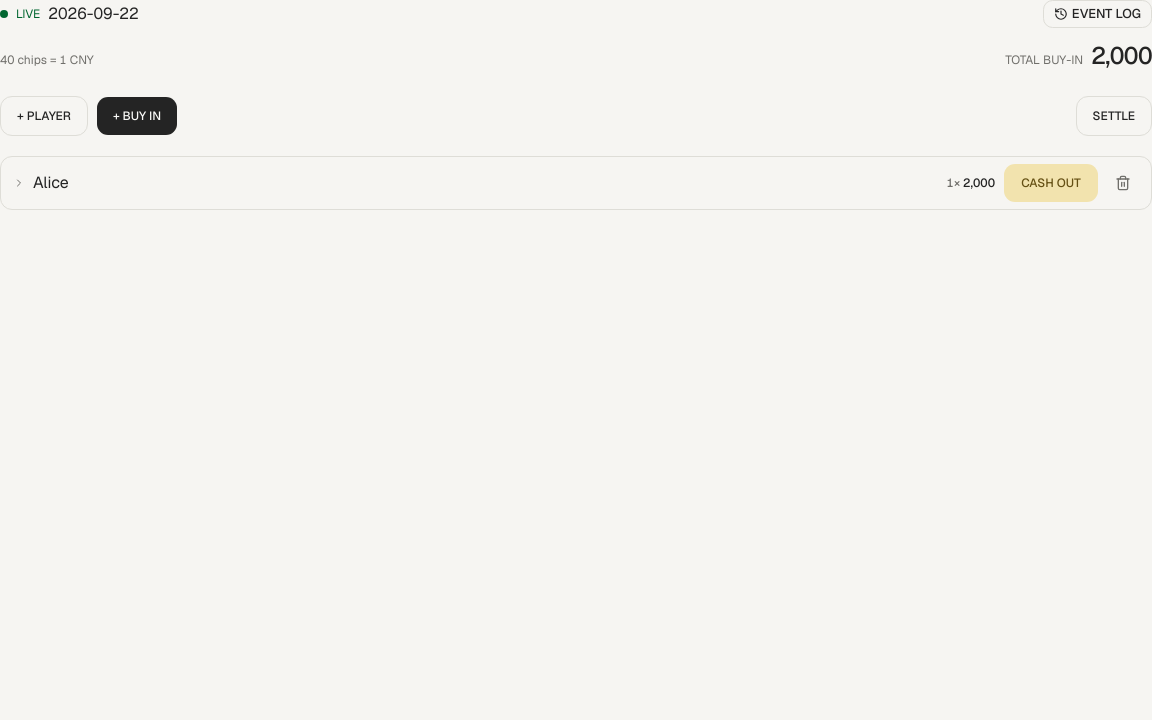
Scenario: updates the log after each checkbox and clears the player filter
Click the button "EVENT LOG".
click(1097, 14)  # box [1043,0,1151,28]
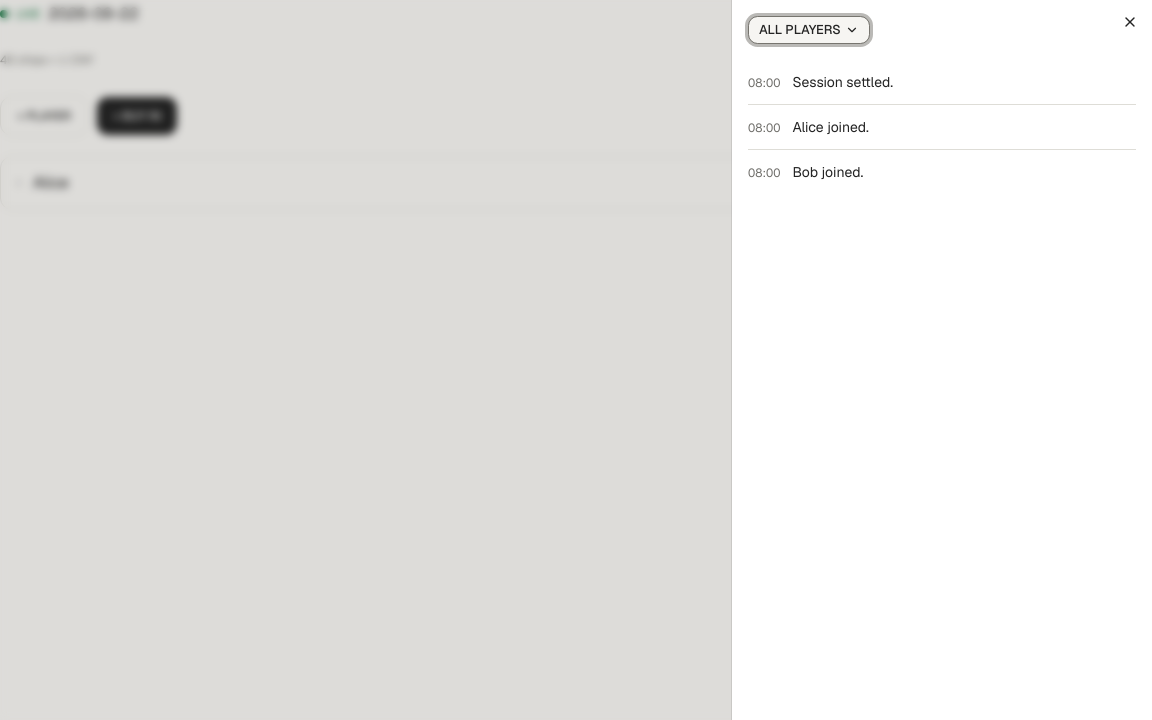
Click the button "ALL PLAYERS".
click(809, 30)  # box [748,16,870,44]
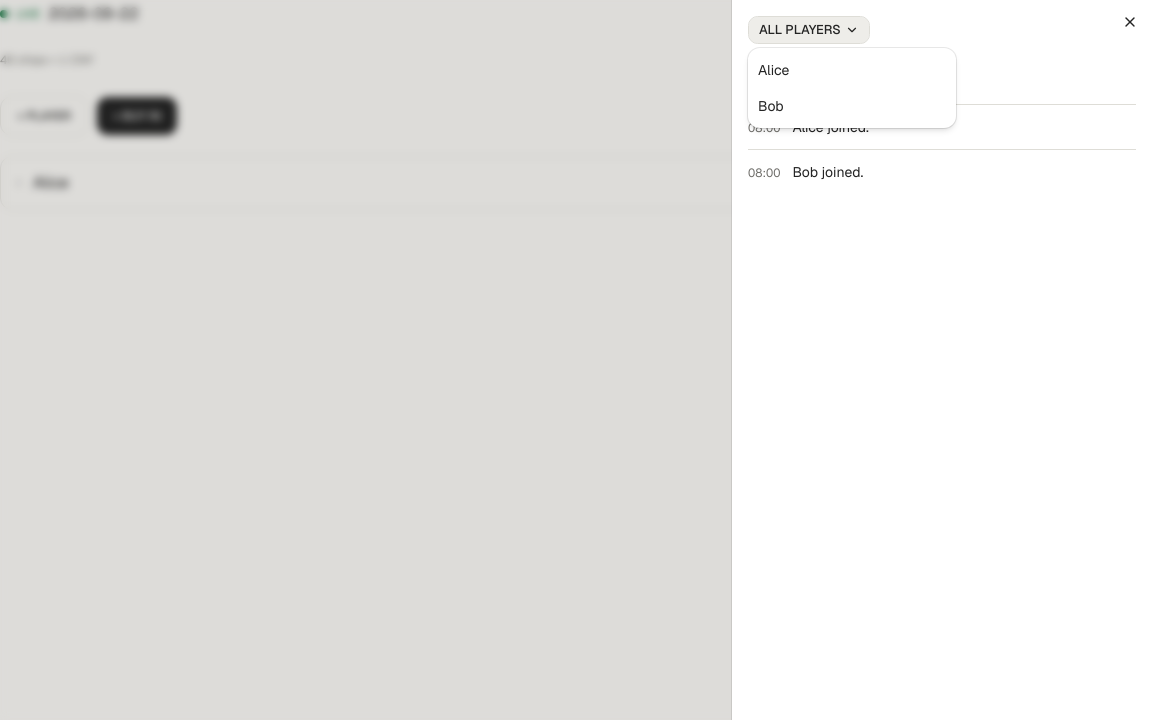
Click the menu item "Alice".
click(774, 70)  # box [758,61,789,79]
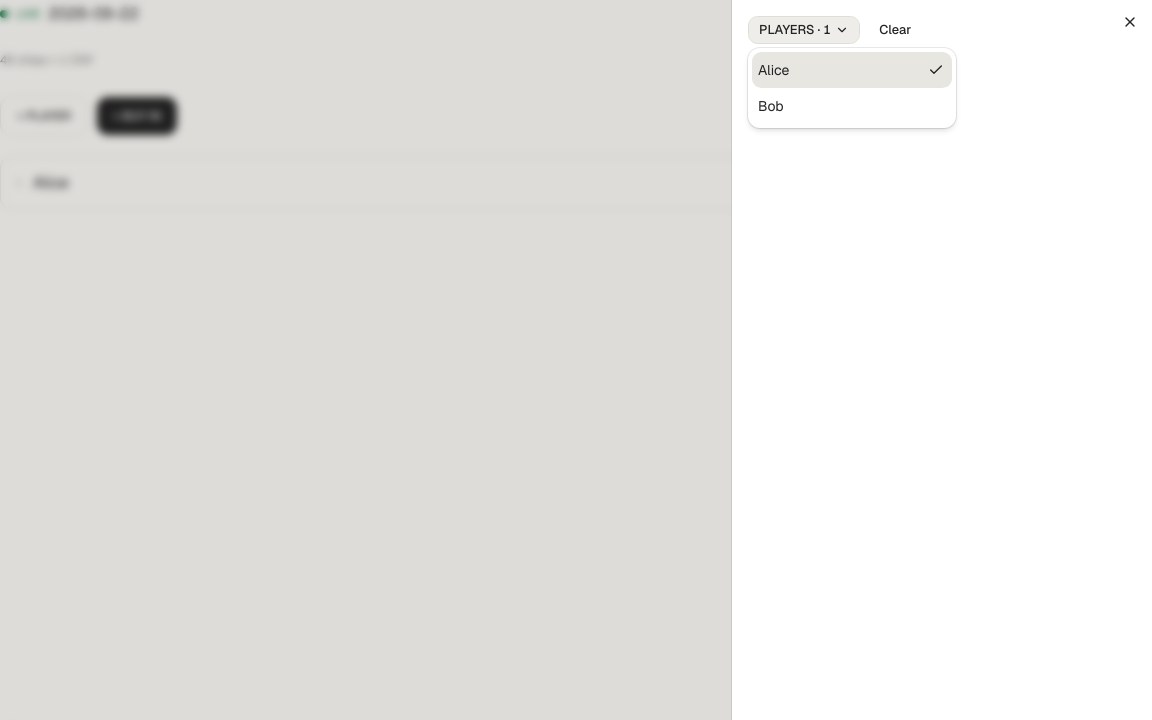
Now the text "Bob joined." is gone
Click the menu item "Bob".
click(771, 106)  # box [758,97,784,115]
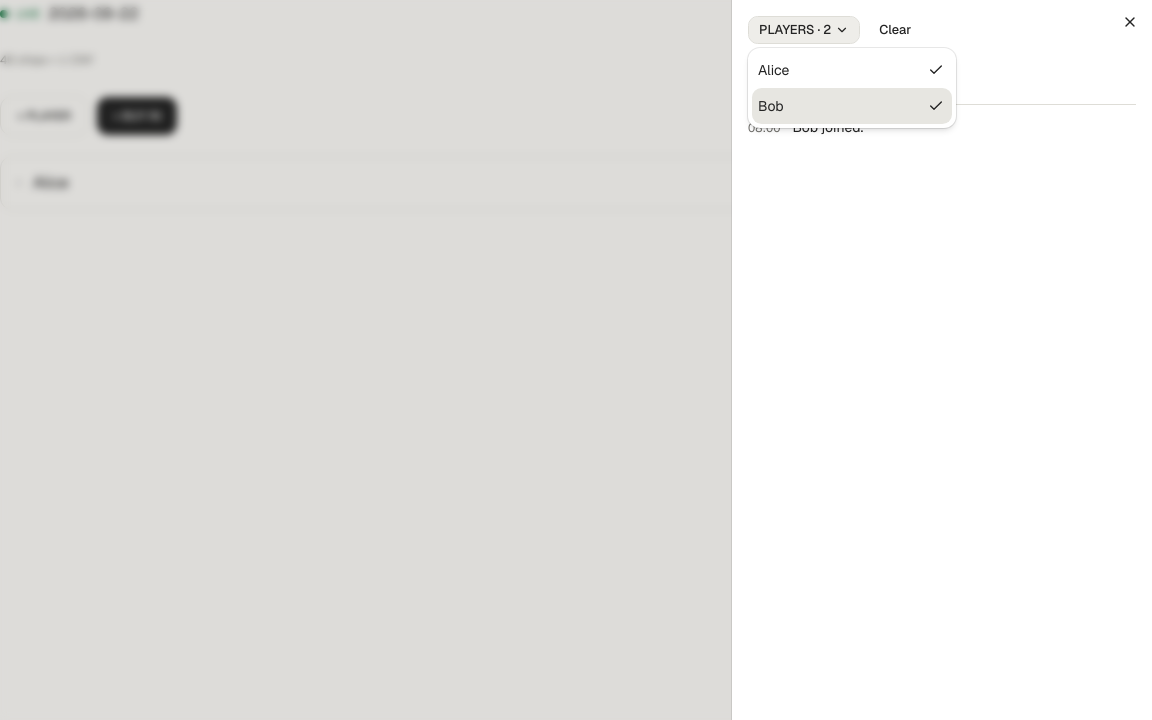
Expected: the text "Session settled." is not shown
Now the text "Alice joined." is shown, box [792,72,869,92]
Now the text "Bob joined." is shown, box [792,117,863,137]
Press Escape
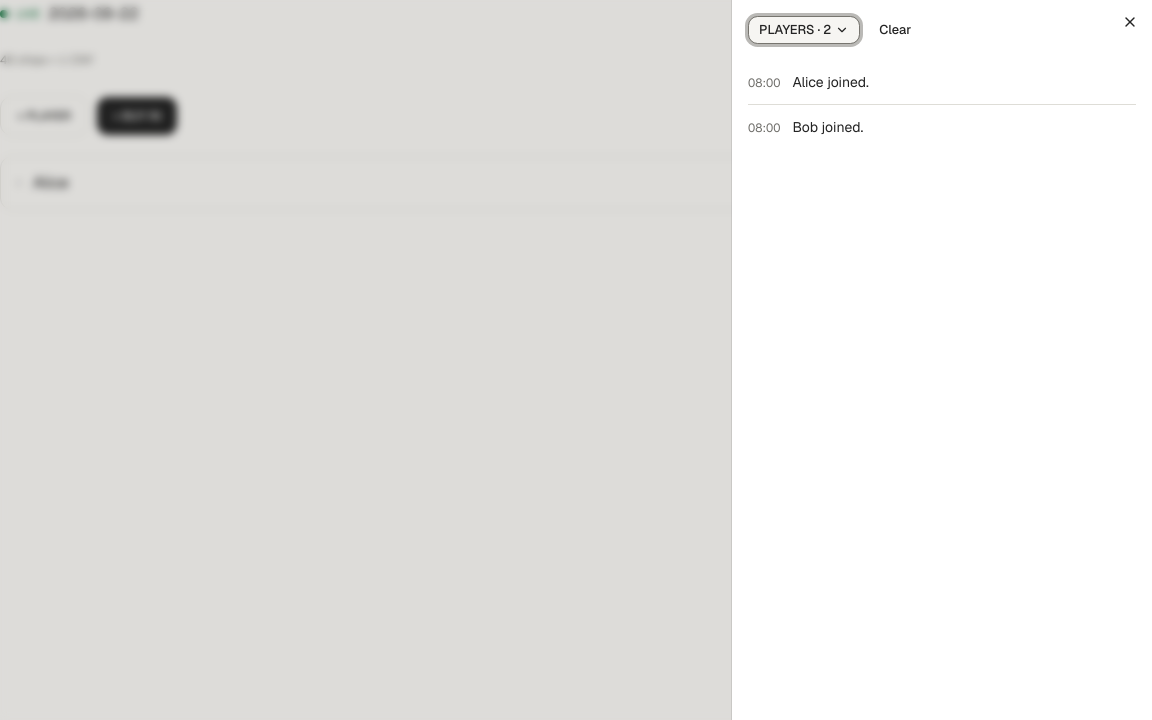
Click the button "Clear".
click(895, 30)  # box [868,16,922,44]
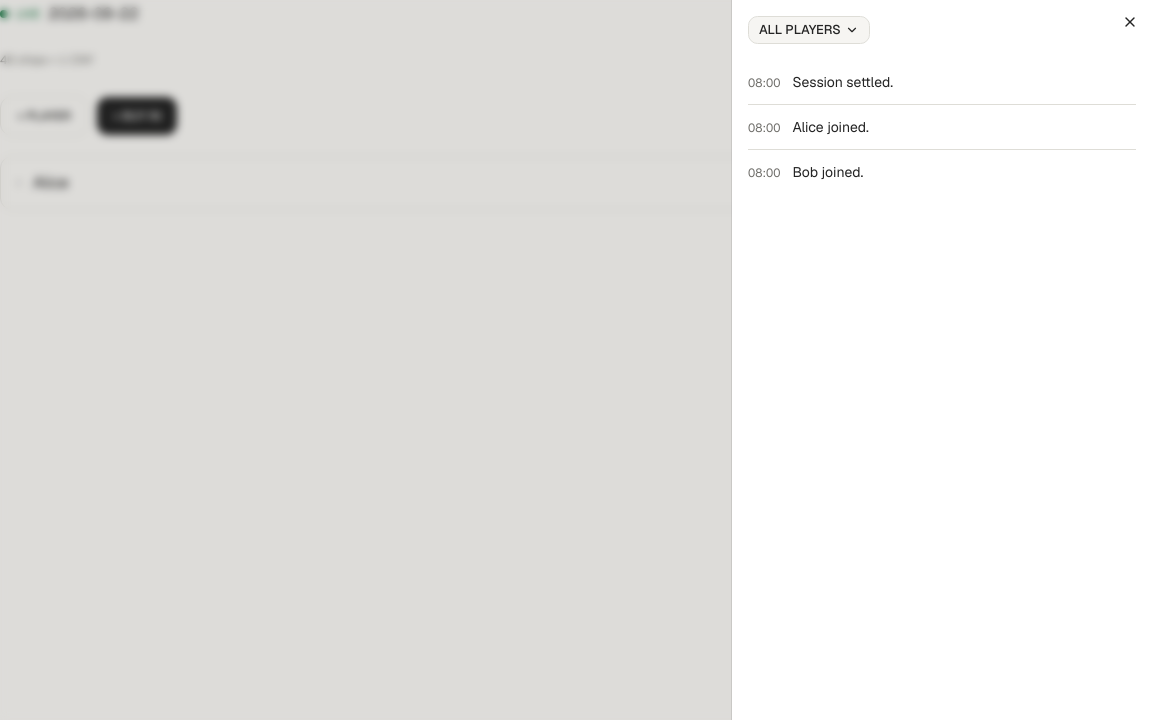
Now the text "Session settled." is shown, box [792,72,893,92]
